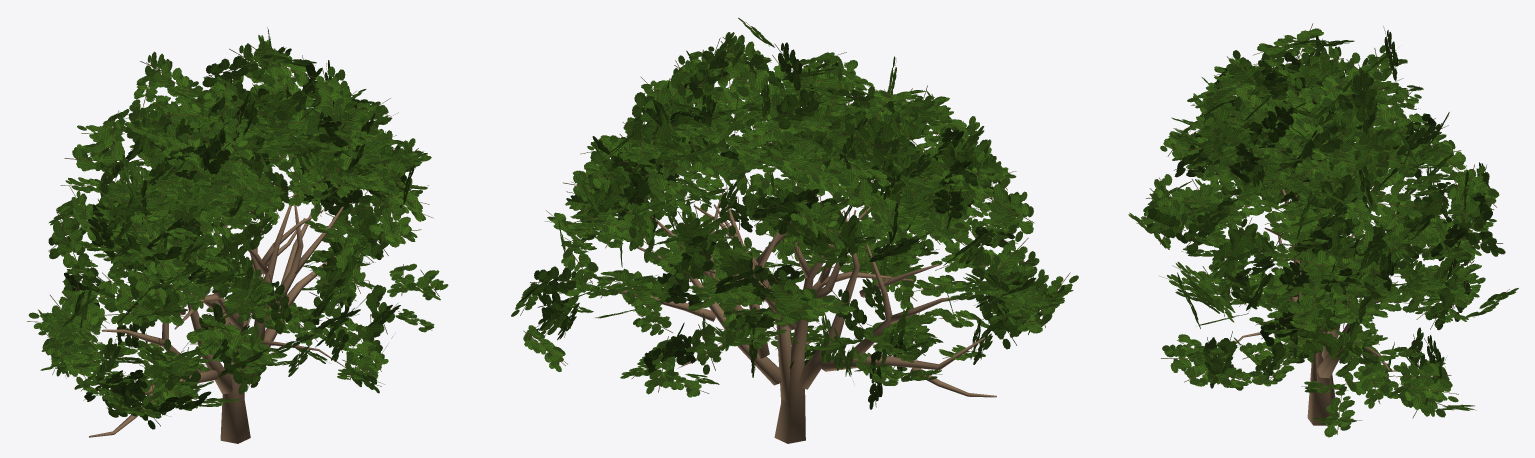
Rendered from near.glb.
The picture shows the model from 3 angles, left to right: view 1: azimuth 30°, elevation 25°; view 2: azimuth 150°, elevation 25°; view 3: azimuth 270°, elevation 25°; orthographic projection. The views are drawn at different scales.
Visible parts, largest first — view 1: foliage, bark; view 2: foliage, bark; view 3: foliage, bark.
Part boxes in pixels (x1,y1,x2,y2): foliage: (27,27,448,429); bark: (89,194,345,443); foliage: (511,17,1078,409); bark: (618,187,996,443); foliage: (1128,23,1518,437); bark: (1235,184,1396,425).
Size of the model in its own units: 22.83 by 18.74 by 17.23.
Materials: 2 (1 with a texture image).
